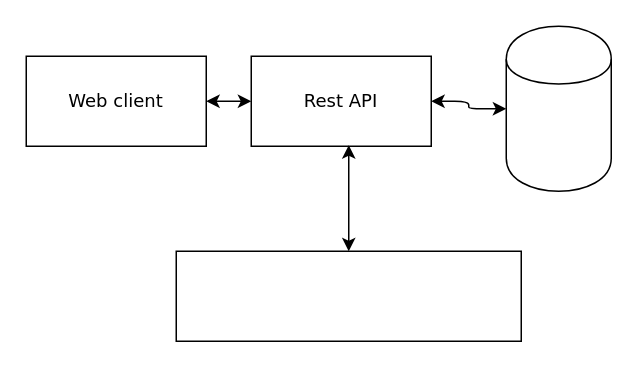
Image size: 638x368. Some labels were removed from this diagram. The centre of each missing label's shape, as x and y in pixels:
"Ethereum Blockchain" belongs at (x=348, y=295).
"Off-chain Repostitary" belongs at (x=558, y=108).
